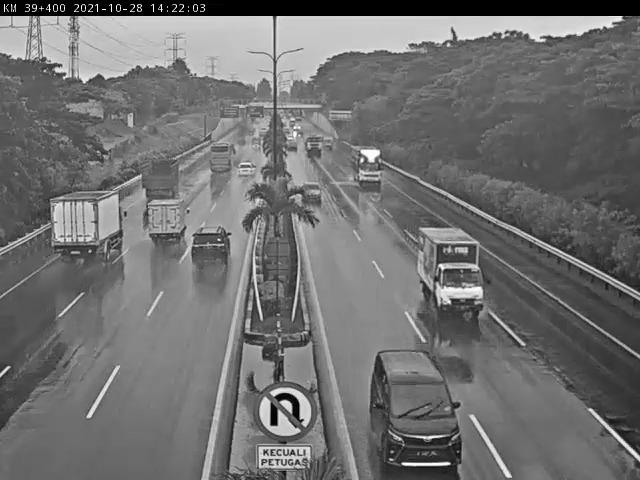big bus: (207, 139, 235, 174)
big truck: (303, 133, 325, 157)
car: (370, 356, 465, 470), (191, 228, 234, 273), (300, 179, 327, 207), (238, 162, 258, 176), (284, 138, 299, 156)
small truck: (417, 232, 490, 323), (43, 189, 127, 267), (144, 198, 187, 249), (349, 142, 387, 191), (141, 159, 181, 200)
